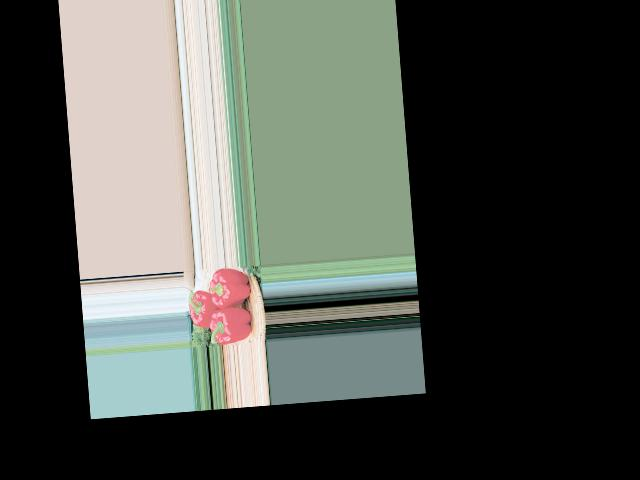bell_pepper: (207, 300, 258, 345)
